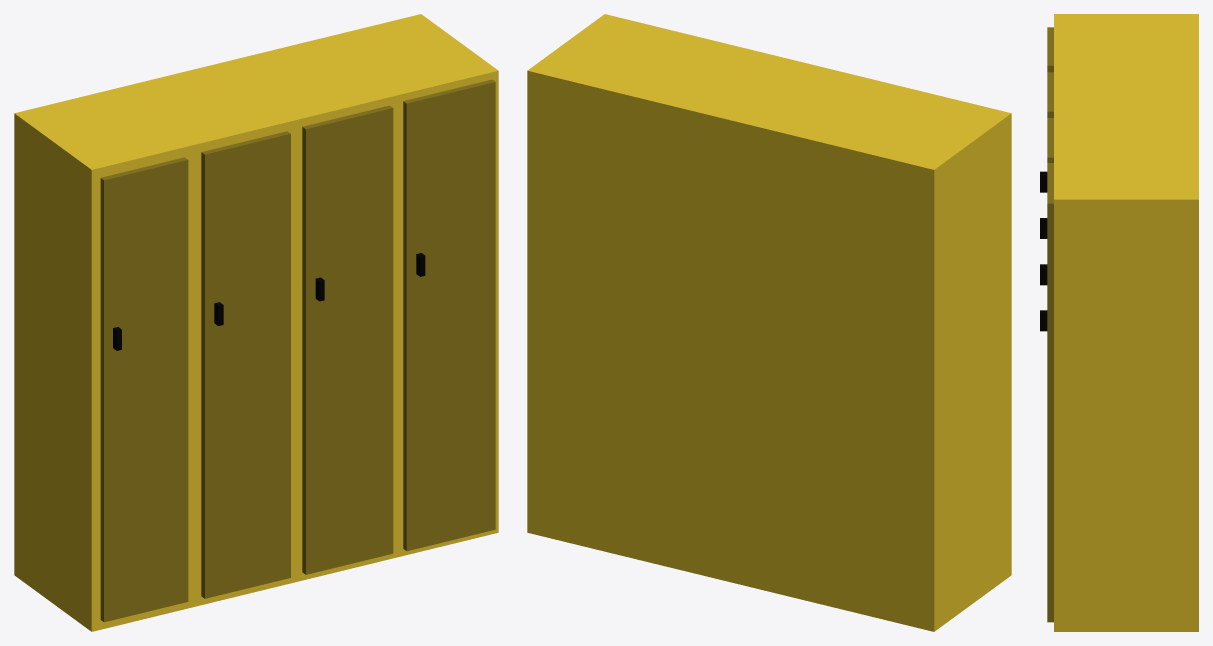
File: YELLOW_Locker.fbx
3 renders of one model, left to right at view 1: azimuth 30°, elevation 25°; view 2: azimuth 150°, elevation 25°; view 3: azimuth 270°, elevation 25°, orthographic. The views are drawn at different scales.
Parts seen in each view (by area): view 1: Locker, Knobs; view 2: Locker; view 3: Locker, Knobs.
Part boxes in pixels (box(x1,y1,x2,y2)): Locker: box(14, 14, 498, 631); Knobs: box(113, 253, 425, 350); Locker: box(527, 14, 1011, 631); Locker: box(1047, 14, 1198, 631); Knobs: box(1040, 171, 1047, 331).
Size of the model in its own units: 607 by 658 by 219.
